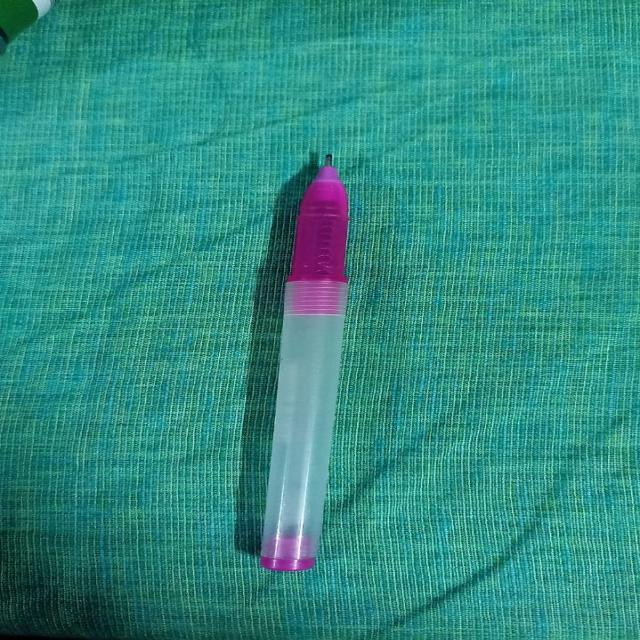pen: (229, 146, 367, 578)
